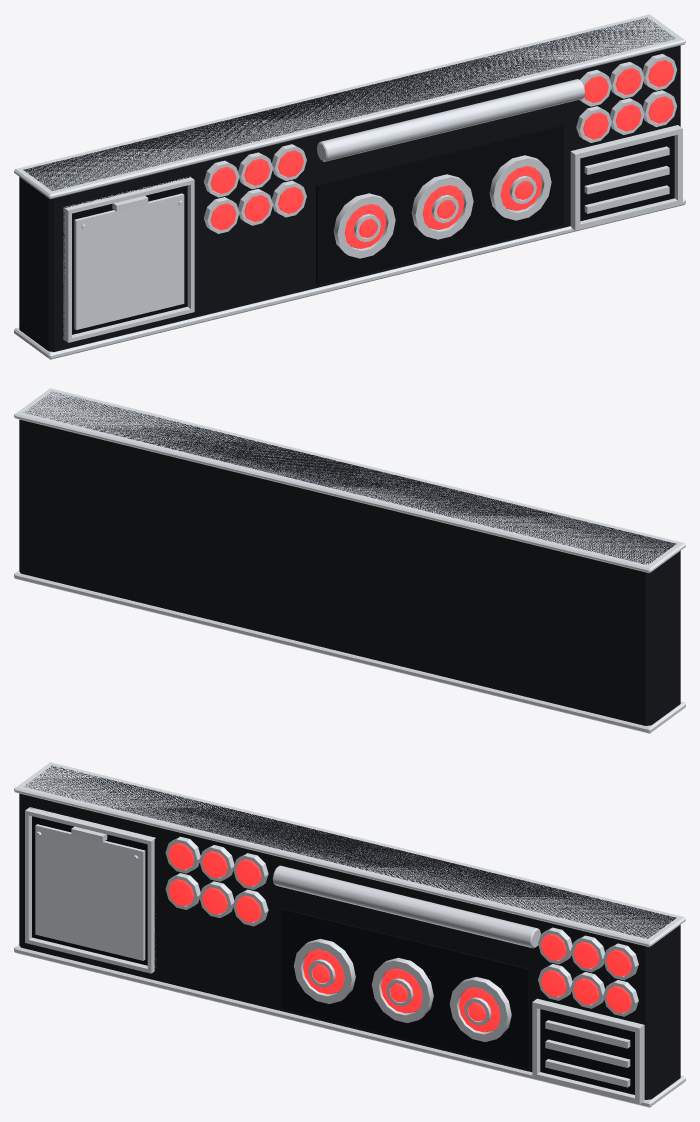
The model's file is rb_target.glb.
The picture shows the model from 3 angles, top to bottom: view 1: azimuth 30°, elevation 25°; view 2: azimuth 150°, elevation 25°; view 3: azimuth 330°, elevation 25°; orthographic projection.
Parts seen in each view (by area): view 1: rb_target_chrome, rb_target_deco_body, rb_target_deco_trim, rb_target_deco_plate, rb_target_lamp_tail; view 2: rb_target_deco_body, rb_target_chrome; view 3: rb_target_deco_body, rb_target_chrome, rb_target_deco_trim, rb_target_deco_plate, rb_target_lamp_tail.
Boxes of the visible parts, x1=… form: rb_target_chrome: x1=14, y1=14, x2=685, y2=359; rb_target_deco_body: x1=19, y1=17, x2=680, y2=351; rb_target_deco_trim: x1=63, y1=125, x2=674, y2=335; rb_target_deco_plate: x1=74, y1=193, x2=184, y2=329; rb_target_lamp_tail: x1=210, y1=60, x2=673, y2=248; rb_target_deco_body: x1=19, y1=392, x2=680, y2=725; rb_target_chrome: x1=14, y1=388, x2=685, y2=733; rb_target_deco_body: x1=19, y1=765, x2=680, y2=1099; rb_target_chrome: x1=14, y1=762, x2=685, y2=1107; rb_target_deco_trim: x1=31, y1=808, x2=634, y2=1094; rb_target_deco_plate: x1=35, y1=824, x2=145, y2=960; rb_target_lamp_tail: x1=168, y1=842, x2=631, y2=1032.
Bounding box in the file's own units: 2.42 × 0.6 × 0.2988.
